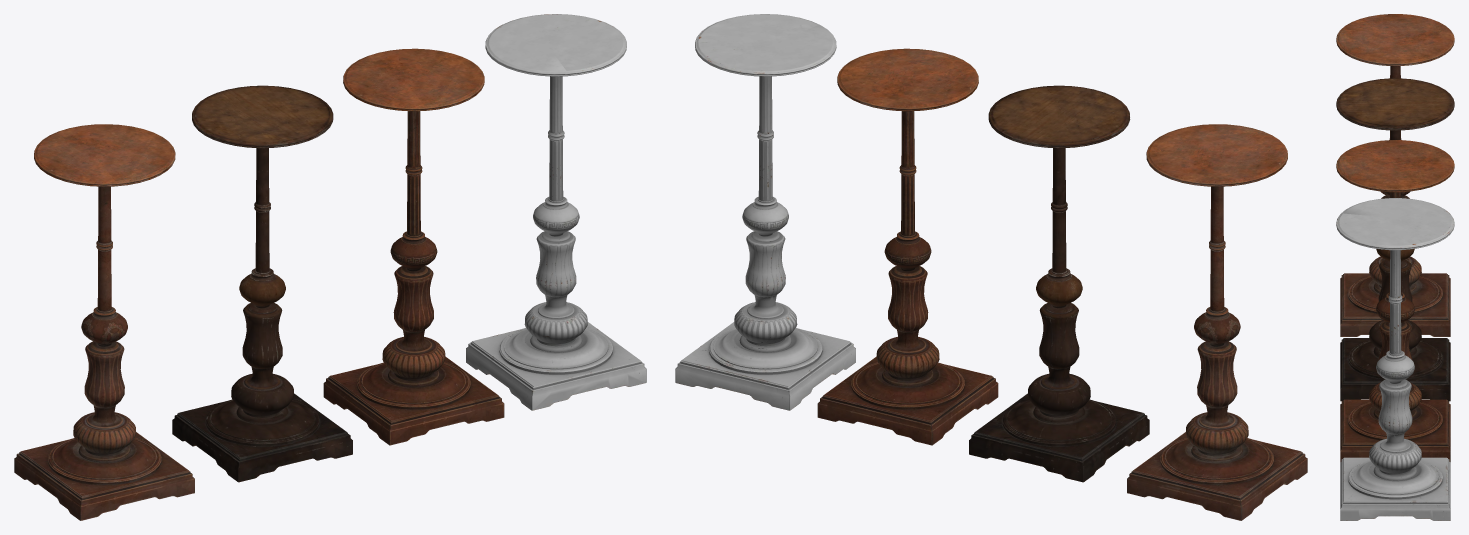
The model's file is pedestal.glb.
3 views of the same model, side by side, from view 1: azimuth 30°, elevation 25°; view 2: azimuth 150°, elevation 25°; view 3: azimuth 270°, elevation 25° (orthographic). The views are drawn at different scales.
Visible parts, largest first — view 1: Object_8, Object_4, Object_6, Object_10; view 2: Object_8, Object_4, Object_6, Object_10; view 3: Object_10, Object_8, Object_6, Object_4.
Part boxes in pixels (box(x1,y1,x2,y2)): Object_8: box(323, 48, 504, 445); Object_4: box(14, 124, 194, 520); Object_6: box(172, 85, 352, 482); Object_10: box(466, 14, 646, 410); Object_8: box(817, 48, 998, 445); Object_4: box(1127, 124, 1307, 520); Object_6: box(969, 85, 1149, 482); Object_10: box(675, 14, 855, 410); Object_10: box(1336, 198, 1454, 520); Object_8: box(1336, 140, 1454, 461); Object_6: box(1336, 78, 1454, 401); Object_4: box(1336, 14, 1454, 336).
Size of the model in its own units: 1.8 by 0.9908 by 0.3862.
Materials: 4 (4 with a texture image).
